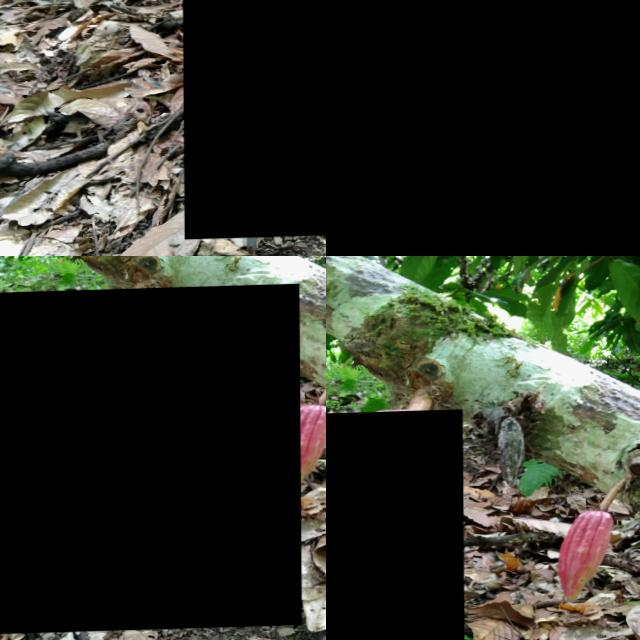Monilia: (0, 286, 301, 635)
Sana: (326, 0, 640, 256), (181, 0, 326, 240), (326, 411, 463, 640), (556, 513, 616, 603)
